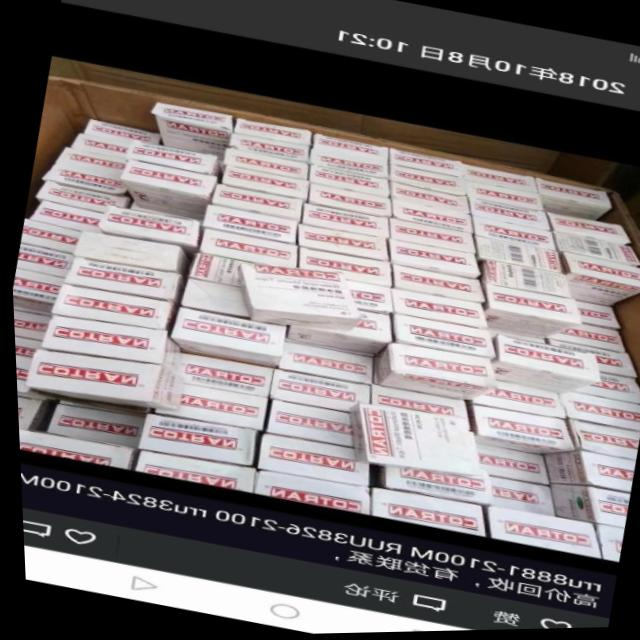box: (345, 404, 477, 479), (21, 349, 179, 411), (37, 314, 179, 376), (234, 264, 357, 333), (372, 344, 493, 403), (167, 308, 282, 368), (487, 336, 596, 397), (134, 413, 252, 466), (252, 433, 365, 488), (60, 256, 183, 306), (117, 159, 215, 221), (482, 508, 596, 560), (47, 283, 169, 331), (149, 102, 231, 172), (70, 230, 189, 278), (366, 489, 480, 539), (477, 285, 579, 340), (129, 450, 252, 494), (464, 406, 571, 456), (150, 384, 263, 431), (248, 471, 366, 516), (388, 315, 493, 363), (94, 205, 198, 253), (366, 385, 468, 433), (281, 310, 388, 355), (374, 467, 489, 508), (15, 429, 130, 470), (122, 139, 220, 185), (557, 254, 640, 308), (42, 404, 141, 449), (265, 369, 366, 413), (262, 400, 349, 448), (177, 353, 268, 398), (196, 228, 294, 269), (274, 343, 369, 385), (538, 453, 630, 496), (467, 381, 563, 422), (387, 290, 485, 330), (296, 247, 388, 289), (200, 205, 295, 245), (389, 266, 482, 306), (209, 184, 301, 223), (387, 241, 478, 280), (295, 224, 386, 263), (481, 261, 569, 301), (543, 341, 632, 380), (556, 393, 640, 434), (545, 486, 623, 530), (533, 180, 610, 223), (298, 204, 388, 240), (33, 180, 128, 214), (551, 233, 637, 270), (561, 421, 636, 463), (221, 166, 306, 203), (386, 219, 473, 255), (474, 238, 558, 275), (470, 218, 555, 253), (465, 198, 550, 233), (39, 162, 125, 196), (472, 446, 545, 486), (306, 184, 388, 219), (389, 201, 471, 235), (461, 181, 545, 214), (388, 182, 467, 217), (306, 166, 387, 200), (221, 148, 307, 180), (544, 215, 629, 247), (177, 278, 245, 318), (307, 149, 387, 182), (485, 479, 551, 518), (388, 165, 464, 198), (27, 200, 100, 234), (567, 375, 640, 408), (459, 164, 536, 195), (228, 134, 307, 164), (185, 253, 254, 287), (387, 149, 461, 180), (543, 326, 622, 355), (10, 268, 62, 312), (311, 134, 387, 164), (232, 118, 310, 147), (53, 147, 125, 175), (81, 119, 158, 145), (19, 219, 77, 253), (15, 243, 71, 278), (12, 355, 50, 400), (343, 282, 391, 315), (69, 133, 127, 158), (573, 303, 617, 333), (14, 396, 50, 431), (11, 310, 47, 341), (590, 527, 618, 564), (12, 336, 45, 360)
